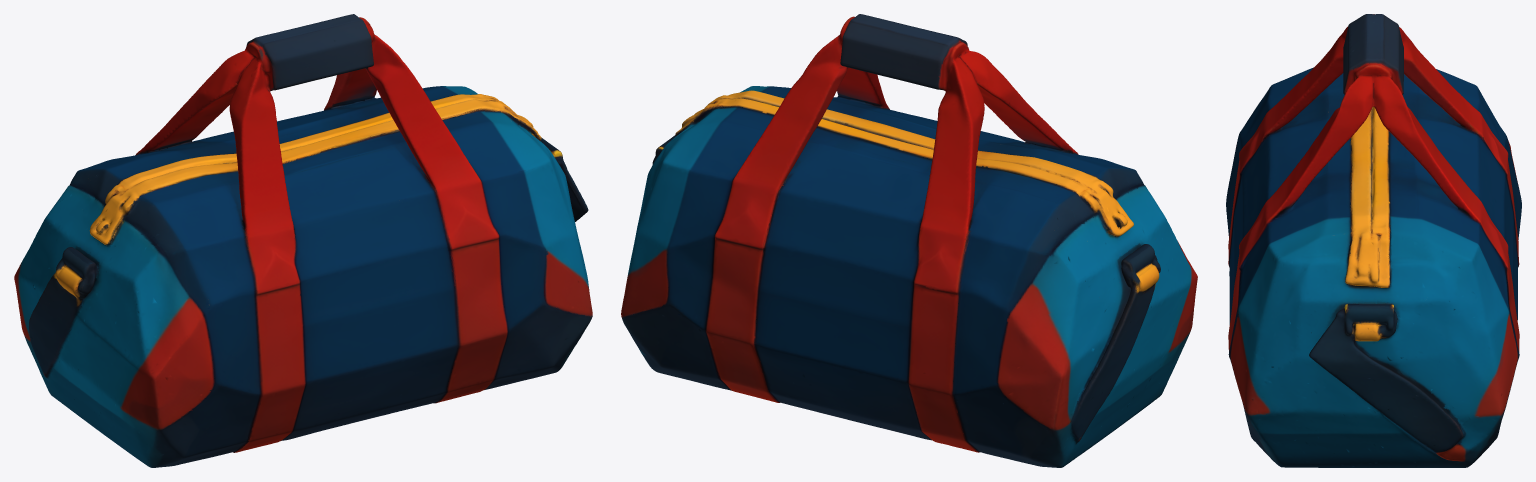
The model's file is color_bag.glb.
The picture shows the model from 3 angles, left to right: view 1: azimuth 30°, elevation 25°; view 2: azimuth 150°, elevation 25°; view 3: azimuth 270°, elevation 25°; orthographic projection. The views are drawn at different scales.
Visible parts, largest first — view 1: world; view 2: world; view 3: world.
Boxes of the visible parts, box(x1,y1,x2,y2) form: world: box(14, 14, 592, 467); world: box(621, 14, 1197, 467); world: box(1226, 14, 1521, 467).
Size of the model in its own units: 1 by 0.6968 by 0.548.
Materials: 1 (1 with a texture image).
